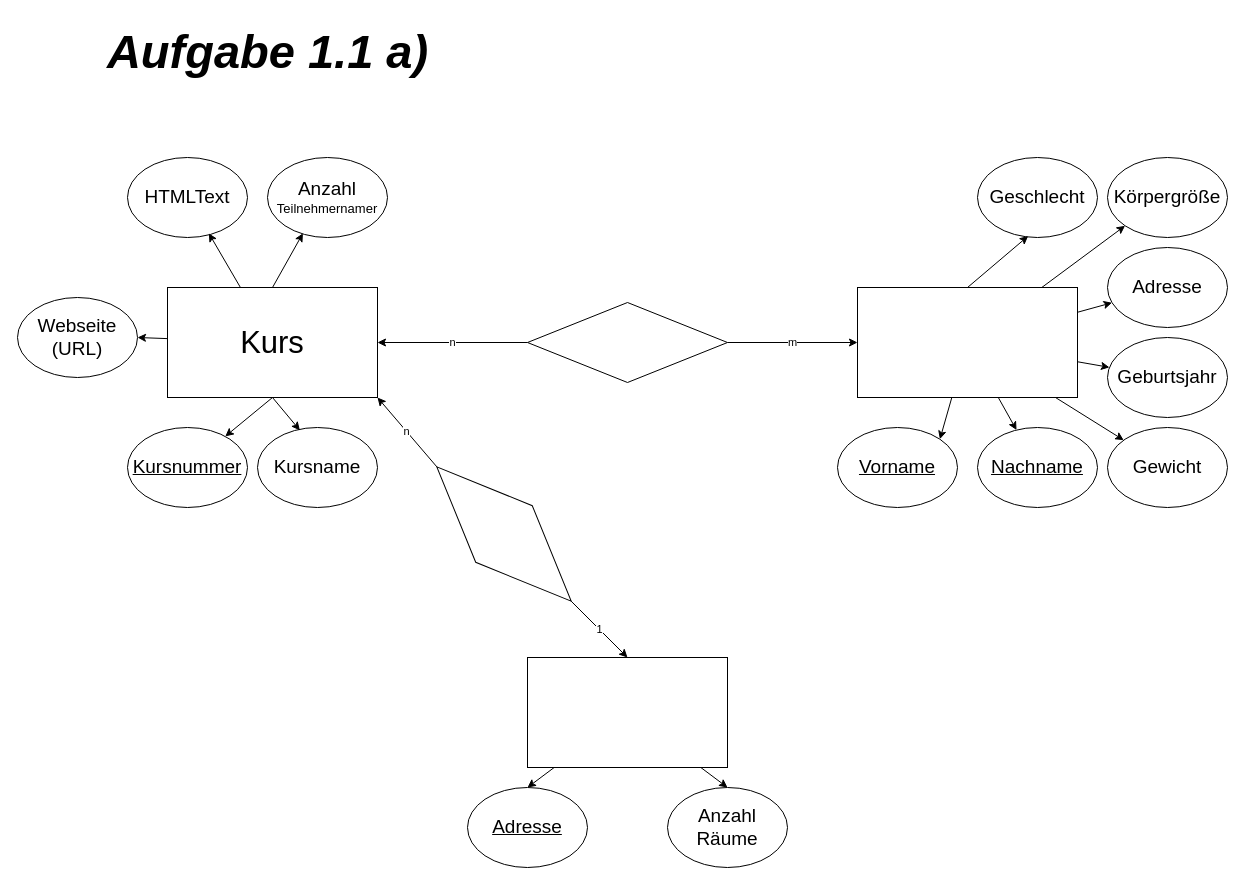
The diagram is 1245 pixels wide and 885 high, and some of its shapes have lost their labels. Here are the shapes that lost their labels. From the top down, the centre of each, then its label:
pixel 627 342: Teilnahme
pixel 967 342: Kunde
pixel 503 533: Bietet an
pixel 627 712: Standort
